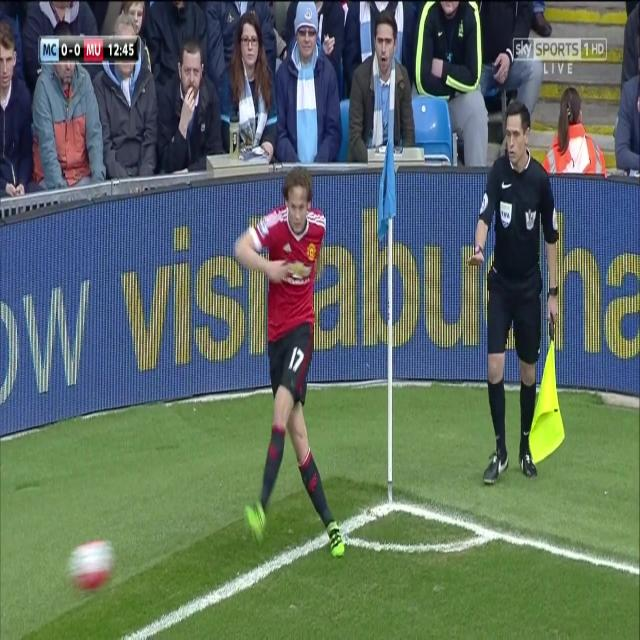Ball: (62, 530, 116, 597)
Player: (234, 165, 349, 562)
Referee: (462, 101, 566, 491)
